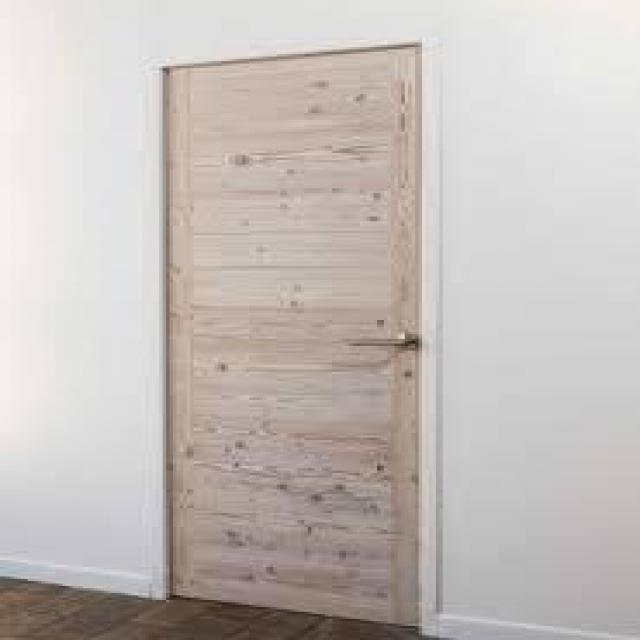close: (142, 38, 456, 638)
